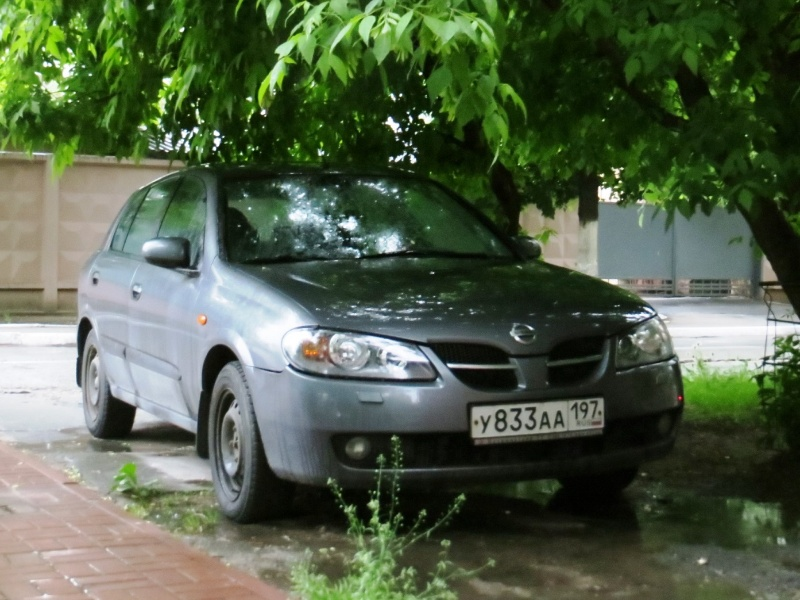car: (77, 163, 685, 524)
plate: (472, 397, 604, 437)
